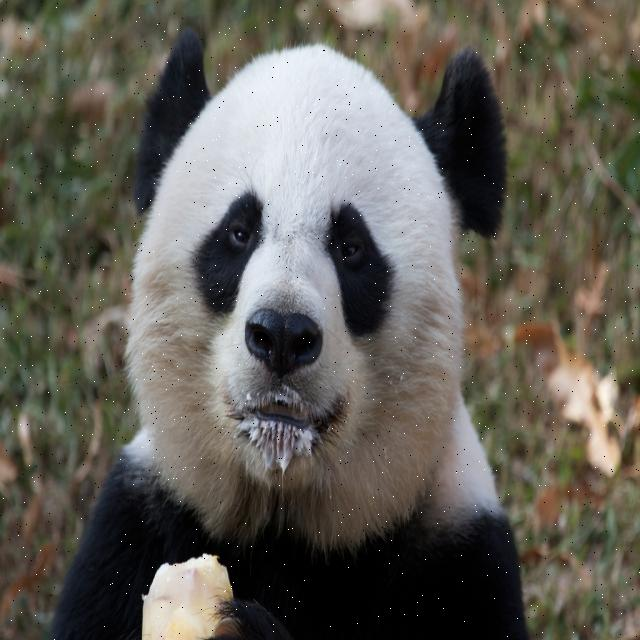panda: (37, 11, 543, 639)
